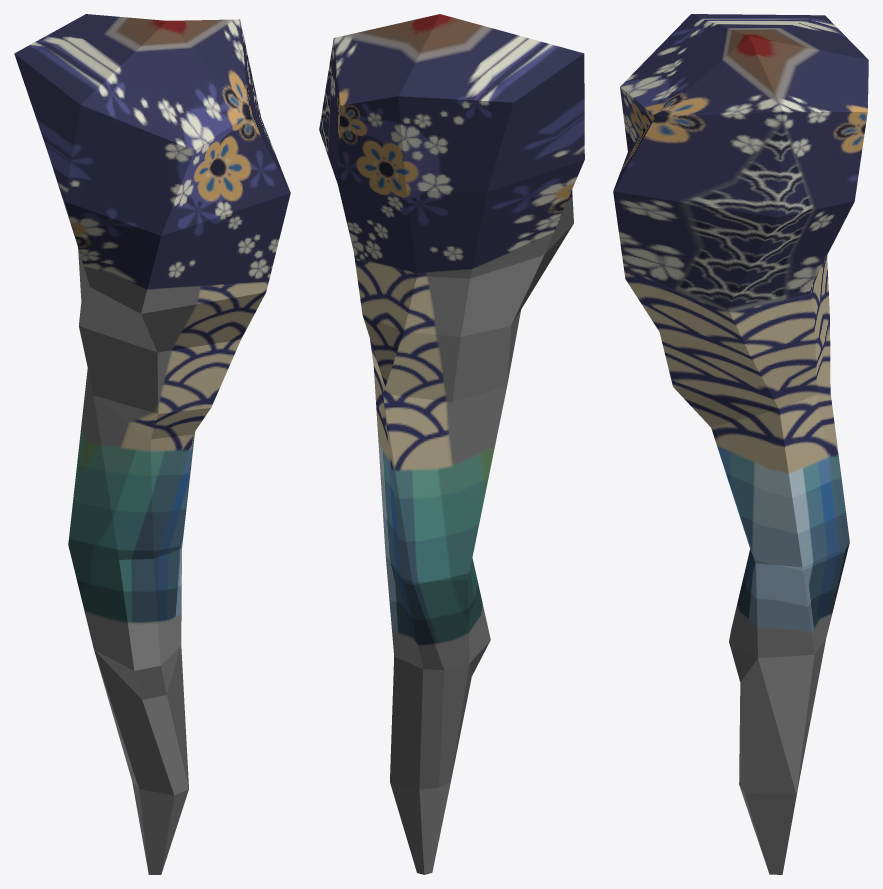
Rendered from samurai_SM_Env_Stalactite_01.gltf.
3 renders of one model, left to right at view 1: azimuth 30°, elevation 25°; view 2: azimuth 150°, elevation 25°; view 3: azimuth 270°, elevation 25°, orthographic. The views are drawn at different scales.
Parts seen in each view (by area): view 1: SM_Env_Stalactite_01; view 2: SM_Env_Stalactite_01; view 3: SM_Env_Stalactite_01.
Boxes of the visible parts, x1,y1,x2,y2 form: SM_Env_Stalactite_01: [14, 14, 290, 874]; SM_Env_Stalactite_01: [319, 14, 584, 874]; SM_Env_Stalactite_01: [613, 14, 868, 874].
Bounding box in the file's own units: 0.3852 × 1.36 × 0.3771.
Materials: 1 (1 with a texture image).
